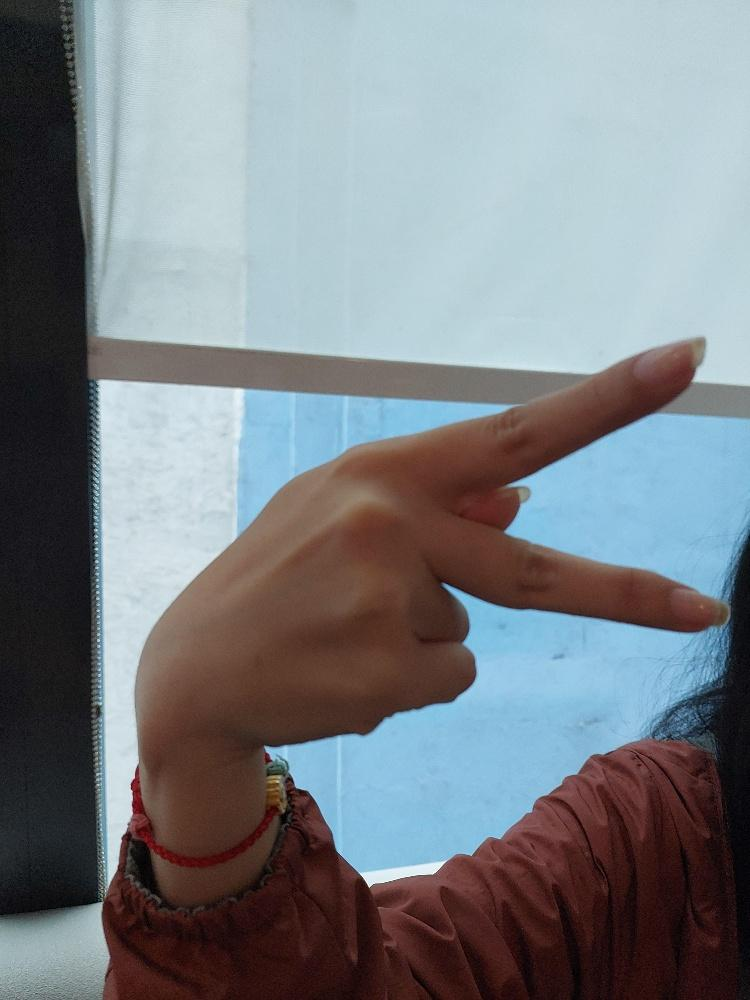k: (134, 329, 736, 749)
